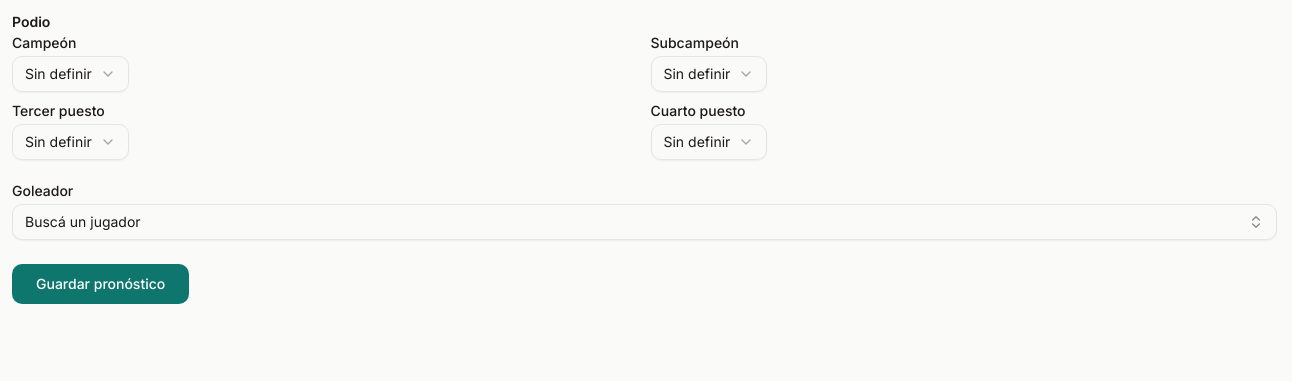
Test: TournamentPredictionForm › surfaces a server 422 validation error
What coordinates should you click on to do the following:
click the button "Guardar pronóstico"
I would click on:
 (101, 284)
Its box is [12, 264, 189, 304].
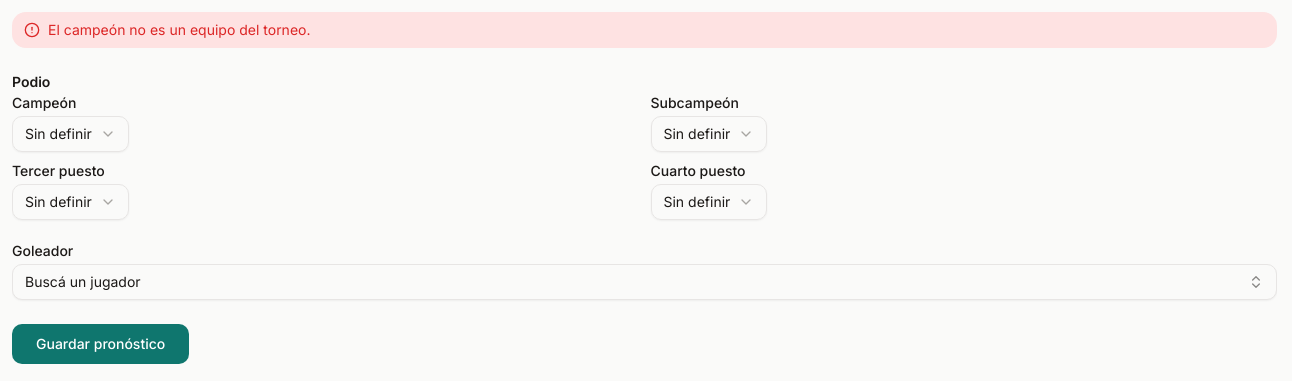
Now the message reads "El campeón no es un equipo del torneo.", box [48, 21, 310, 38]
